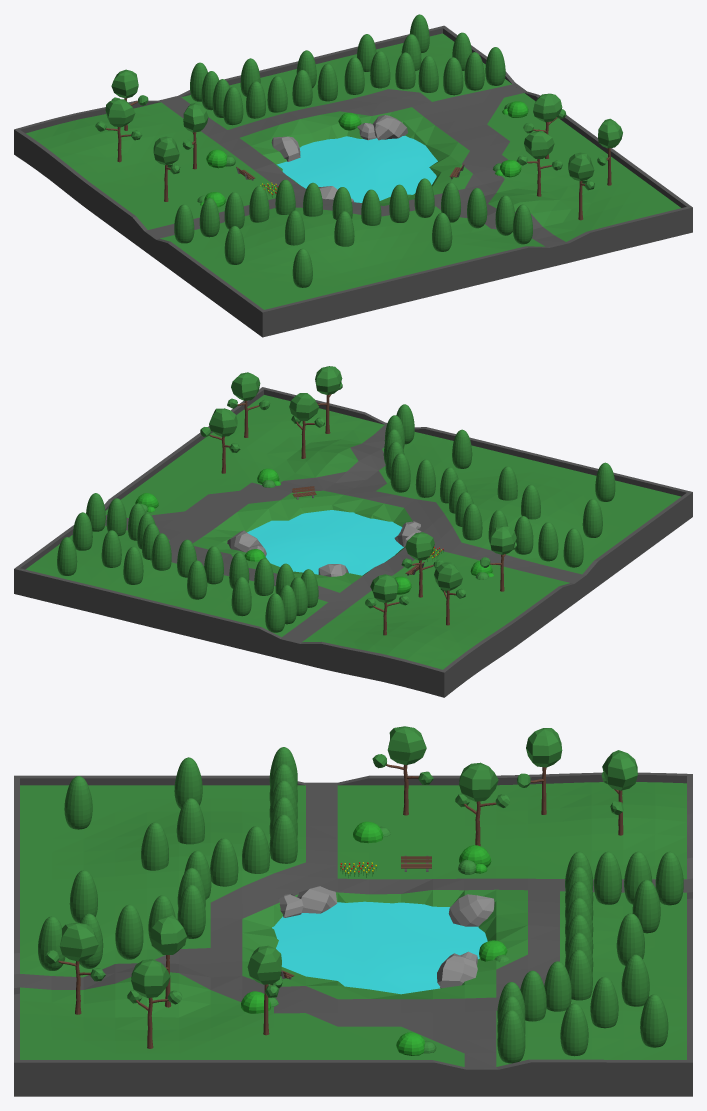
File: test park medium.fbx
3 views of the same model, one above another, from view 1: azimuth 30°, elevation 25°; view 2: azimuth 150°, elevation 25°; view 3: azimuth 270°, elevation 25° (orthographic). The views are drawn at different scales.
Visible parts, largest first — view 1: pSphere115; view 2: pSphere115; view 3: pSphere115.
Part boxes in pixels (<box>): pSphere115: <box>14,14,692,337</box>; pSphere115: <box>14,366,692,697</box>; pSphere115: <box>14,726,692,1096</box>.
Bounding box in the file's own units: 192 × 42.05 × 192.
